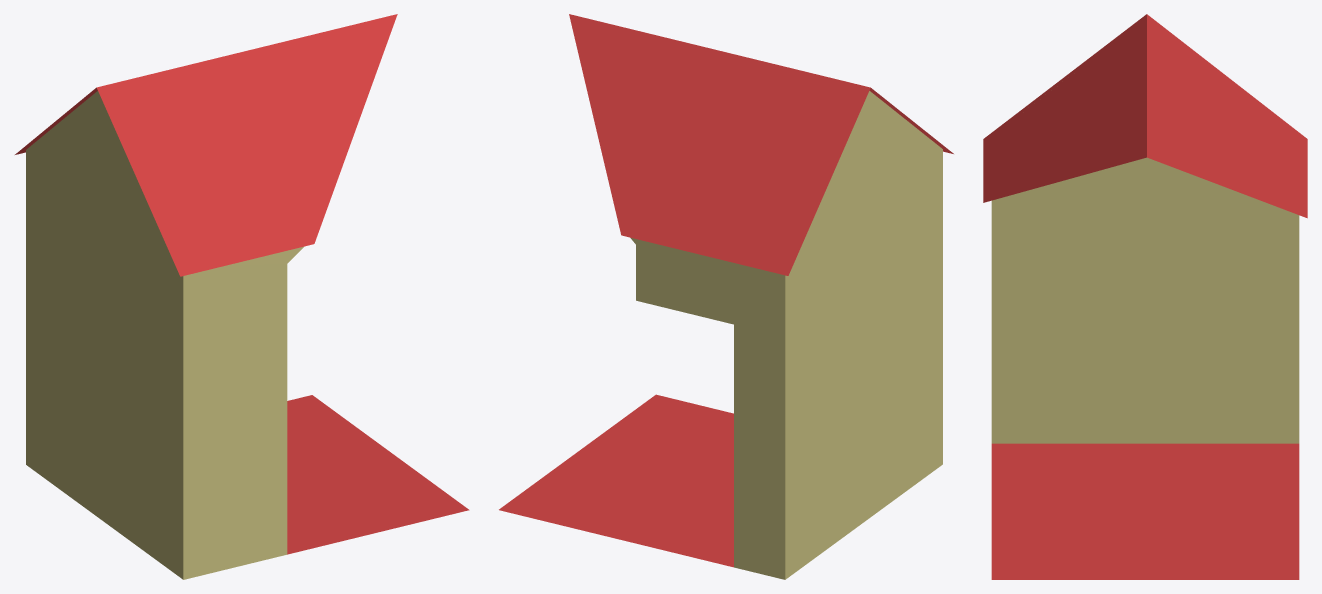
The picture shows the model from 3 angles, left to right: view 1: azimuth 30°, elevation 25°; view 2: azimuth 150°, elevation 25°; view 3: azimuth 270°, elevation 25°; orthographic projection. The views are drawn at different scales.
Bounding box in the file's own units: 10.08 × 9.62 × 13.94.
